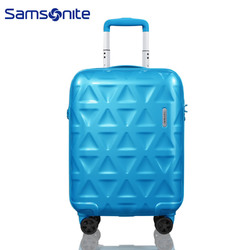luggage: (67, 18, 185, 235)
